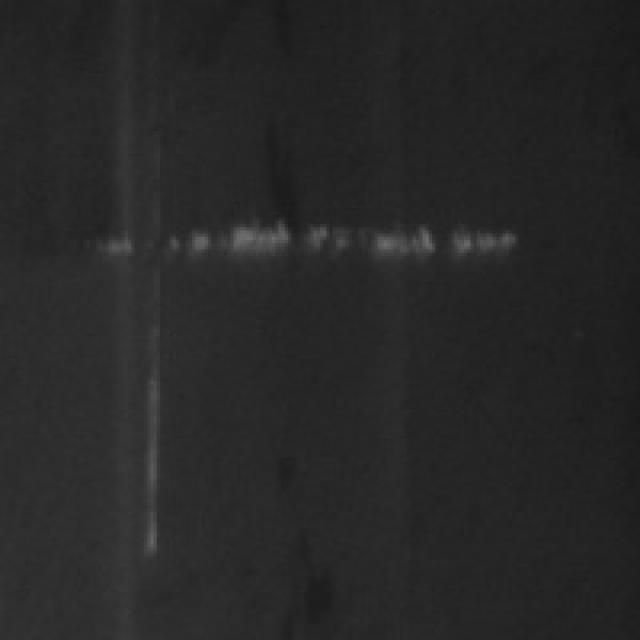scratches: (131, 233, 186, 570), (99, 218, 525, 259)
